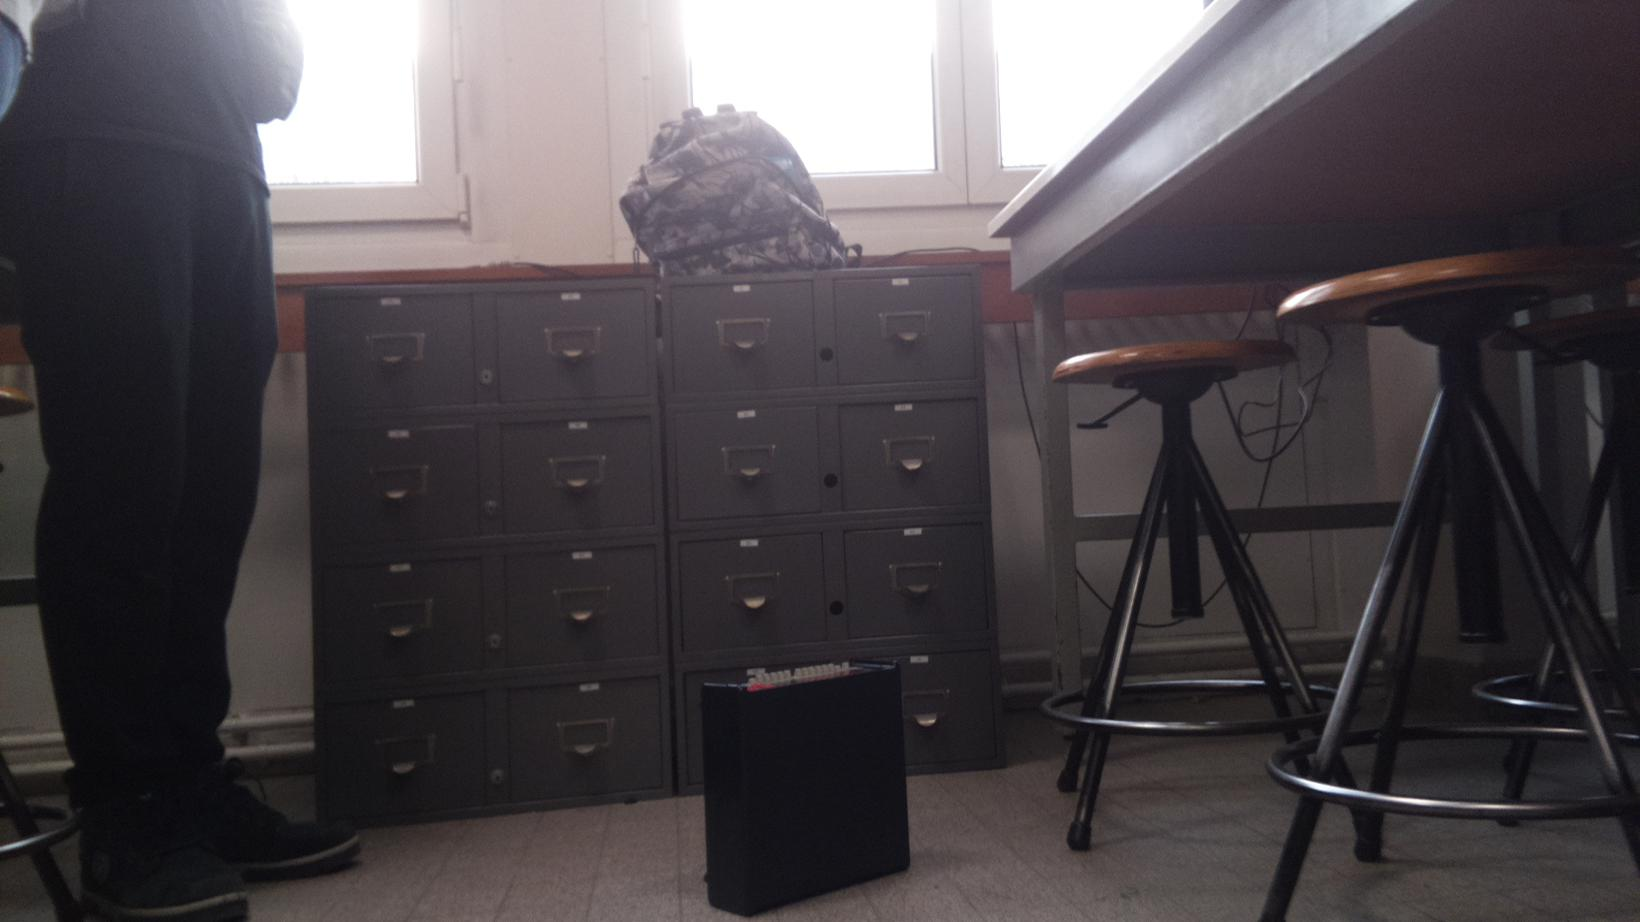big: (615, 102, 866, 272)
medium: (693, 655, 921, 916)
